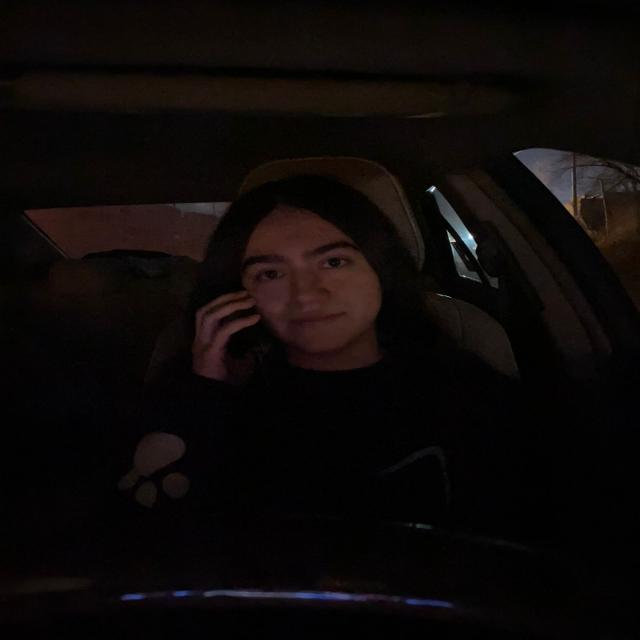person: (219, 176, 425, 373)
